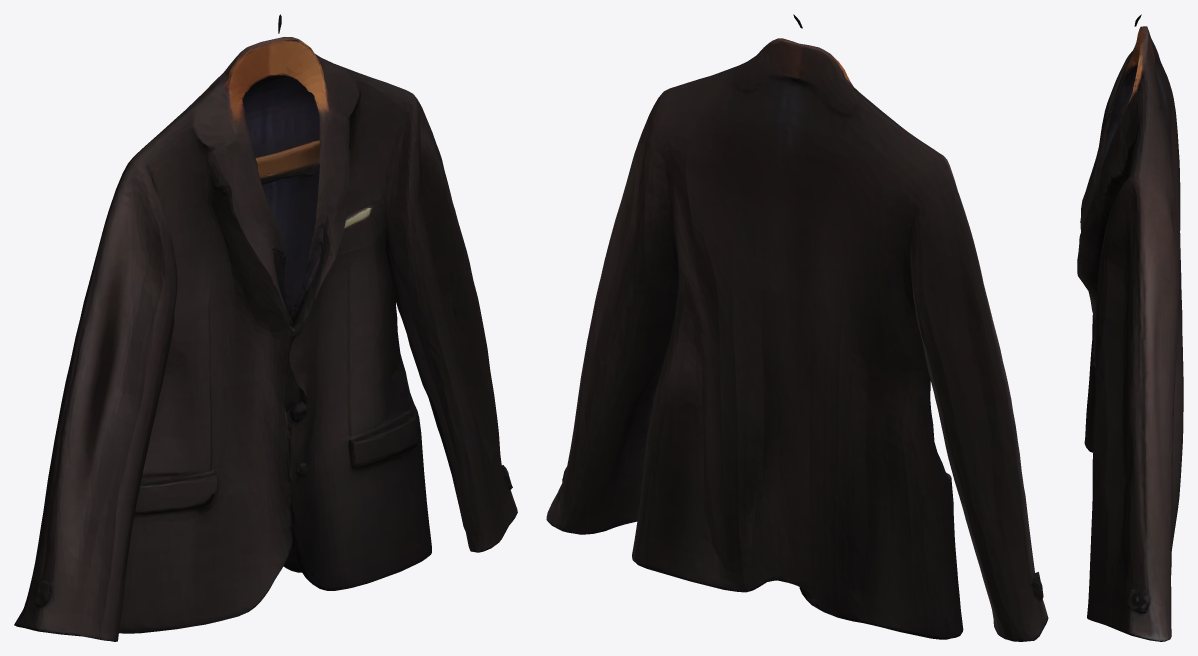
The model's file is jacket.glb.
3 views of the same model, side by side, from view 1: azimuth 30°, elevation 25°; view 2: azimuth 150°, elevation 25°; view 3: azimuth 270°, elevation 25° (orthographic). The views are drawn at different scales.
Visible parts, largest first — view 1: geometry_0; view 2: geometry_0; view 3: geometry_0.
Part boxes in pixels (x1,y1,x2,y2): geometry_0: (14,14,517,641); geometry_0: (546,14,1048,641); geometry_0: (1077,14,1183,641).
Bounding box in the file's own units: 0.886 × 0.9984 × 0.1776.
1 material, 1 textured.
